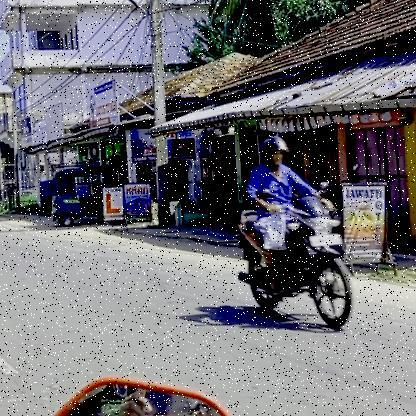motorcycle: (229, 192, 360, 334)
